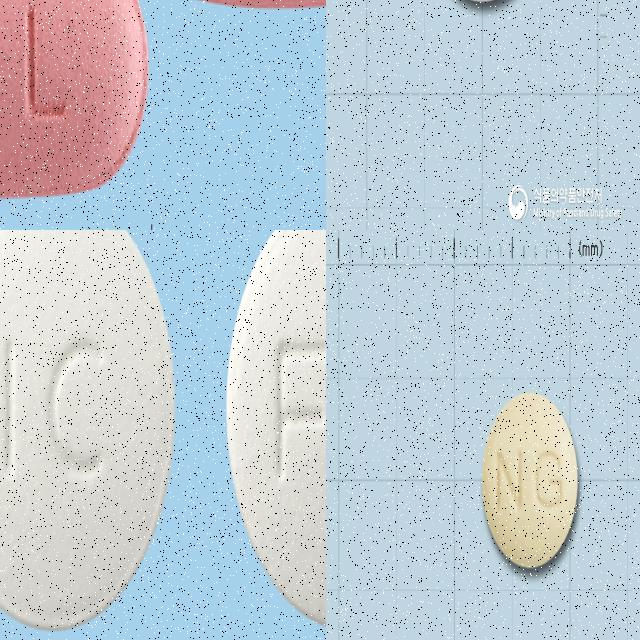Famviro: (0, 230, 176, 626), (226, 230, 326, 631)
Levoxacin -500mg: (0, 0, 149, 197)
Nevolaxin Tablet: (481, 392, 579, 572)
